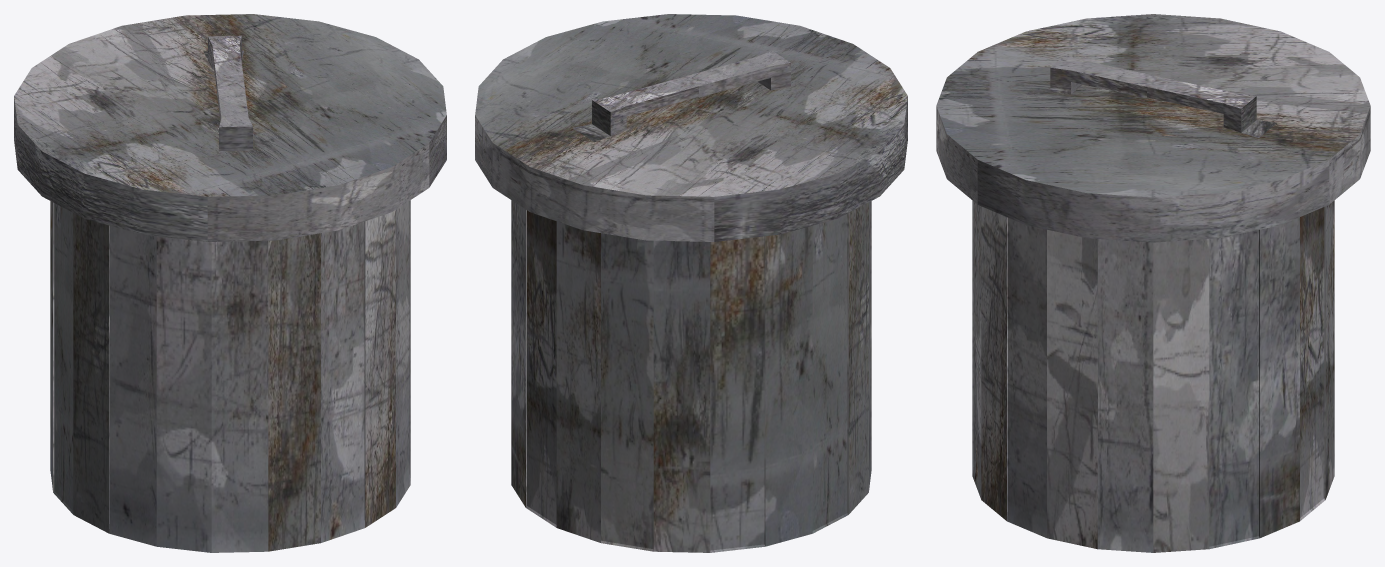
The model's file is Trashcan.fbx.
3 views of the same model, side by side, from view 1: azimuth 30°, elevation 25°; view 2: azimuth 150°, elevation 25°; view 3: azimuth 270°, elevation 25° (orthographic).
Parts seen in each view (by area): view 1: pCylinder1, pCylinder2; view 2: pCylinder1, pCylinder2; view 3: pCylinder1, pCylinder2.
Boxes of the visible parts, x1,y1,x2,y2 form: pCylinder1: (50,200,410,552); pCylinder2: (14,14,446,241); pCylinder1: (511,200,871,552); pCylinder2: (475,14,907,241); pCylinder1: (972,200,1334,552); pCylinder2: (936,14,1370,242).
Size of the model in its own units: 2.4 by 2.41 by 2.4.
Materials: 2 (2 with a texture image).
